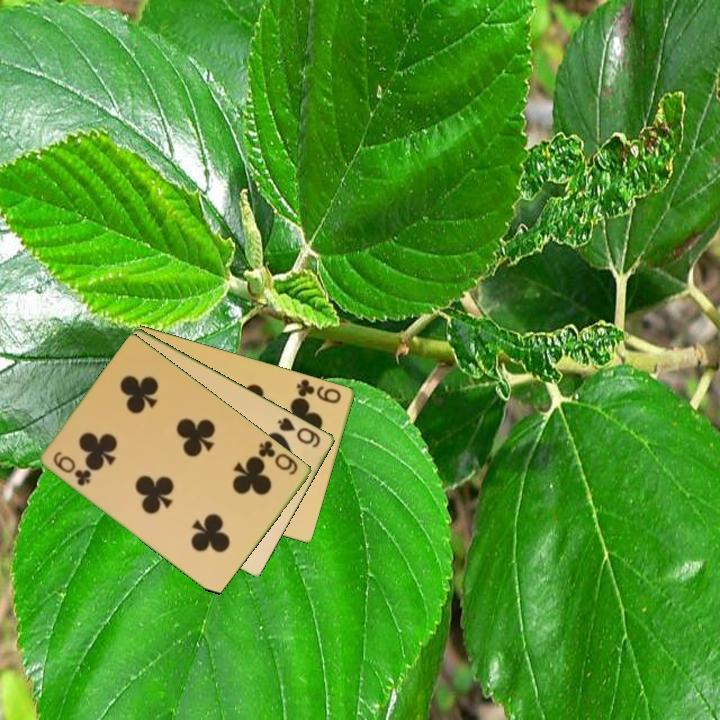6c: (255, 437, 301, 478), (50, 448, 95, 489)
6s: (274, 414, 324, 451)
9c: (293, 375, 344, 406)
